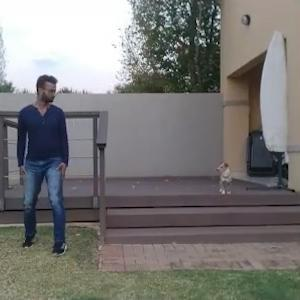follow: (21, 68, 73, 256)
